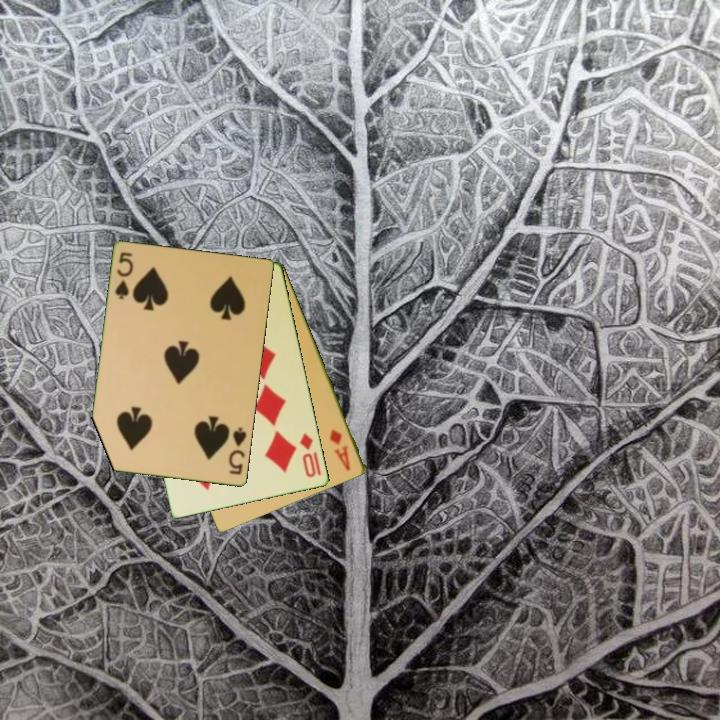10d: (296, 430, 324, 480)
5s: (112, 249, 137, 303), (226, 424, 250, 478)
Ad: (326, 426, 354, 474)
